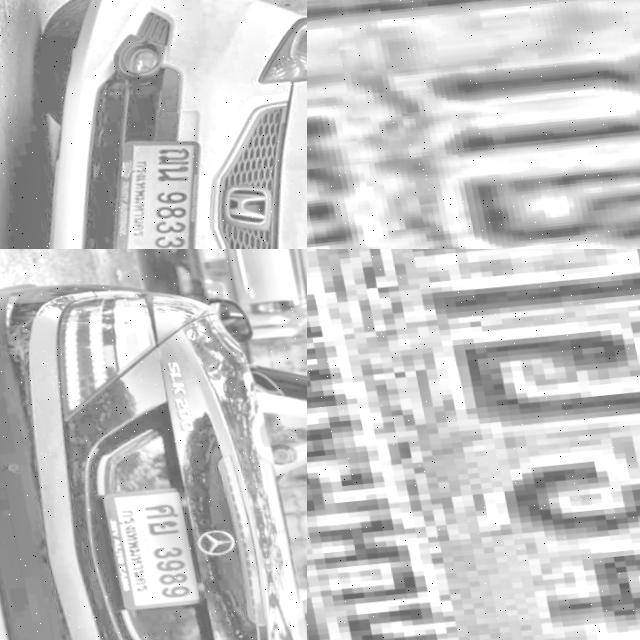license-plate: (307, 249, 640, 640), (307, 0, 640, 249), (79, 480, 215, 613), (83, 129, 220, 249)
